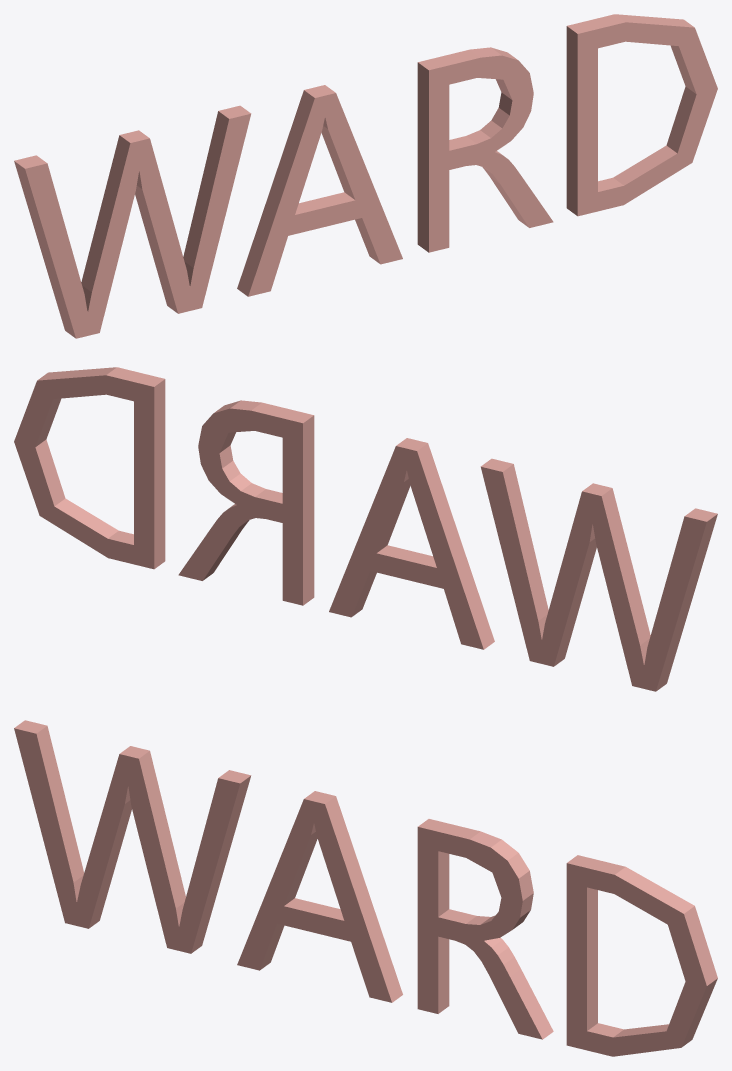
Rendered from inscription1.fbx.
The picture shows the model from 3 angles, top to bottom: view 1: azimuth 30°, elevation 25°; view 2: azimuth 150°, elevation 25°; view 3: azimuth 330°, elevation 25°; orthographic projection.
Visible parts, largest first — view 1: Extrude_2; view 2: Extrude_2; view 3: Extrude_2.
Boxes of the visible parts, x1,y1,x2,y2 form: Extrude_2: (14,14,717,338); Extrude_2: (14,367,717,691); Extrude_2: (14,720,717,1056).
Size of the model in its own units: 36.19 by 9.1 by 1.
